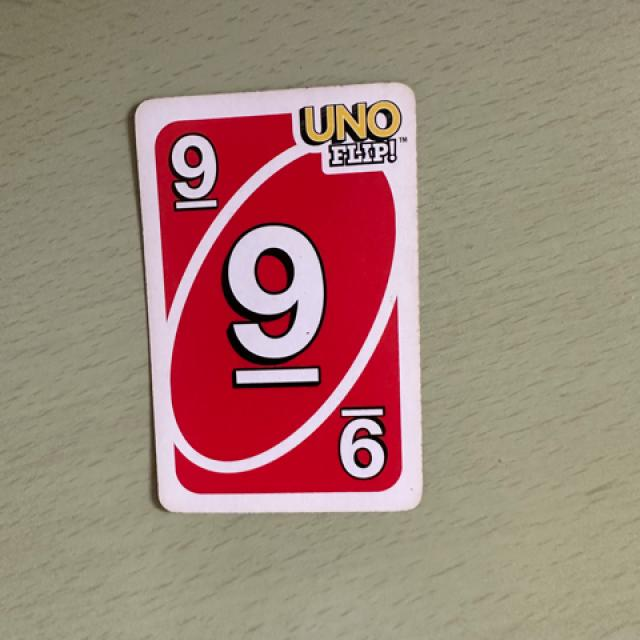lred-9: (148, 115, 236, 220)
